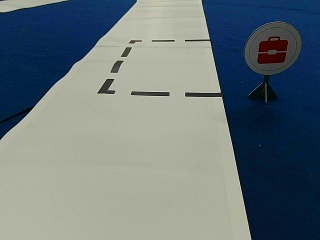company: (245, 21, 302, 73)
